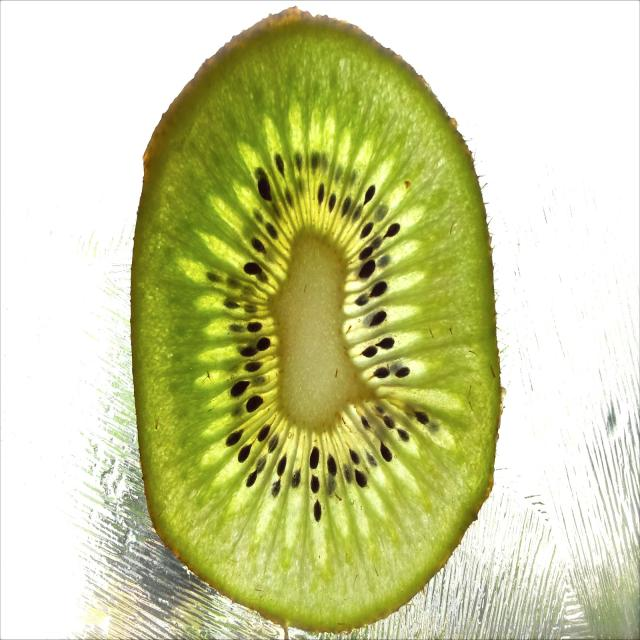Chilli Pepper: (113, 11, 526, 624)
